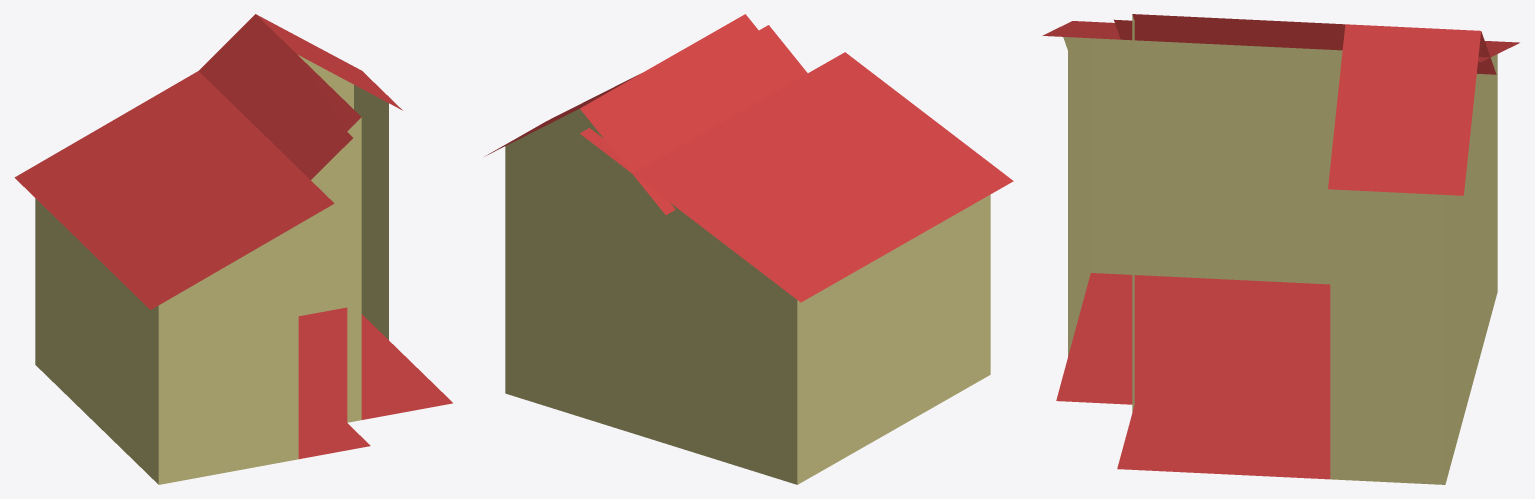
3 renders of one model, left to right at view 1: azimuth 30°, elevation 25°; view 2: azimuth 150°, elevation 25°; view 3: azimuth 270°, elevation 25°, orthographic. The views are drawn at different scales.
Bounding box in the file's own units: 13.08 × 11.42 × 10.52.
